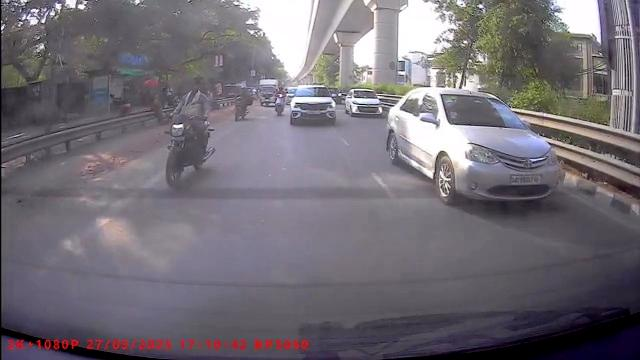motorcycle_with_helmet: (163, 77, 215, 185)
